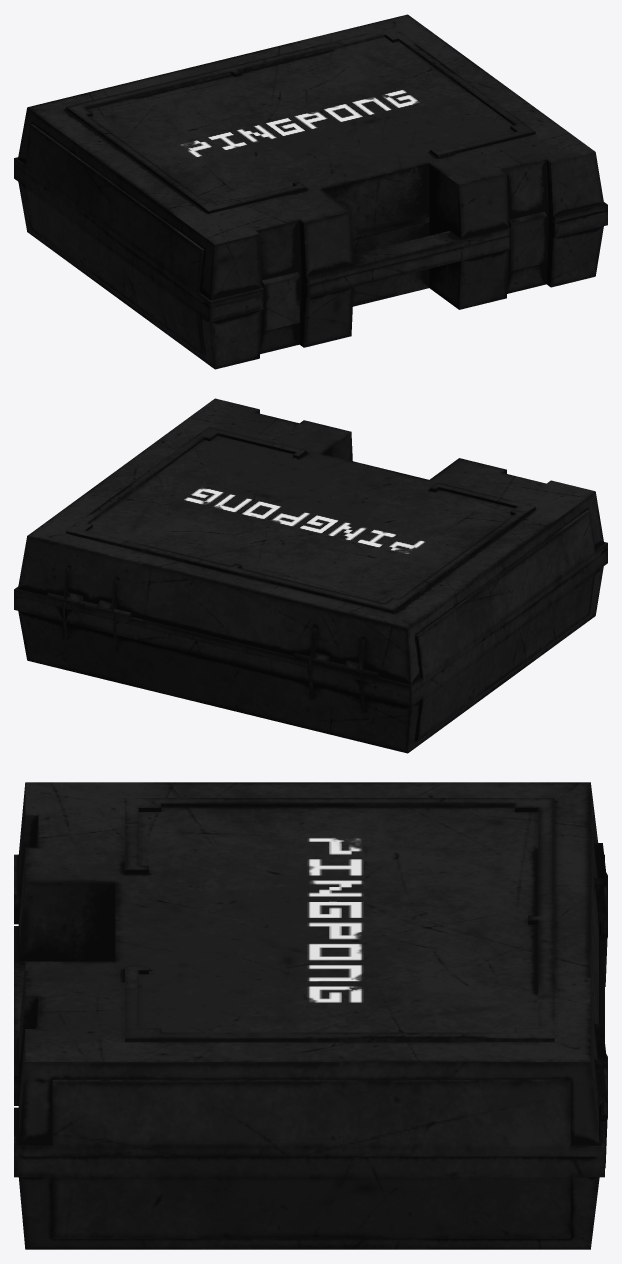
The model's file is CaseFinal.fbx.
3 views of the same model, one above another, from view 1: azimuth 30°, elevation 25°; view 2: azimuth 150°, elevation 25°; view 3: azimuth 270°, elevation 25° (orthographic). The views are drawn at different scales.
Visible parts, largest first — view 1: Case Top, Case Bottom, Case detail.004, Hinge open.007; view 2: Case Top, Case Bottom, Case detail.004, Hinge1.005, Hinge2.005; view 3: Case Top, Case Bottom, Case detail.004, Hinge1.005.
Part boxes in pixels (bbox=[...]): Case Top: bbox=[14, 14, 607, 308]; Case Bottom: bbox=[14, 165, 607, 369]; Case detail.004: bbox=[66, 27, 535, 213]; Hinge open.007: bbox=[263, 216, 547, 331]; Case Top: bbox=[14, 398, 607, 692]; Case Bottom: bbox=[14, 550, 607, 753]; Case detail.004: bbox=[66, 426, 535, 613]; Hinge1.005: bbox=[63, 567, 364, 673]; Hinge2.005: bbox=[47, 592, 379, 712]; Case Top: bbox=[14, 782, 604, 1156]; Case Bottom: bbox=[14, 903, 604, 1249]; Case detail.004: bbox=[125, 798, 554, 1042]; Hinge1.005: bbox=[594, 843, 607, 1105].
Bounding box in the file's own units: 78.33 × 23.97 × 67.31.
Materials: 1 (1 with a texture image).
